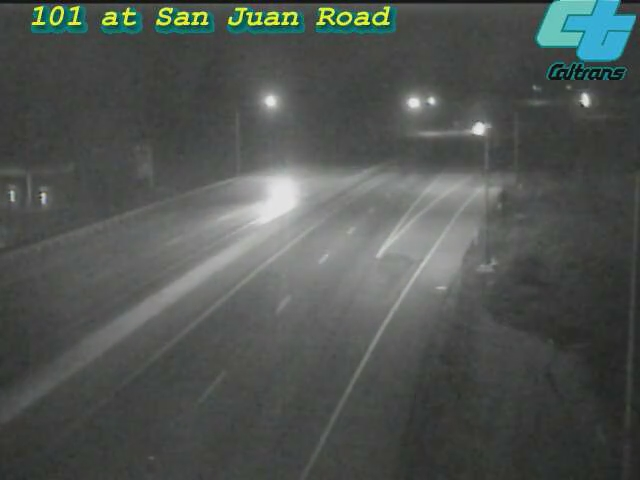vehicle: (242, 153, 322, 233), (454, 104, 504, 154)
